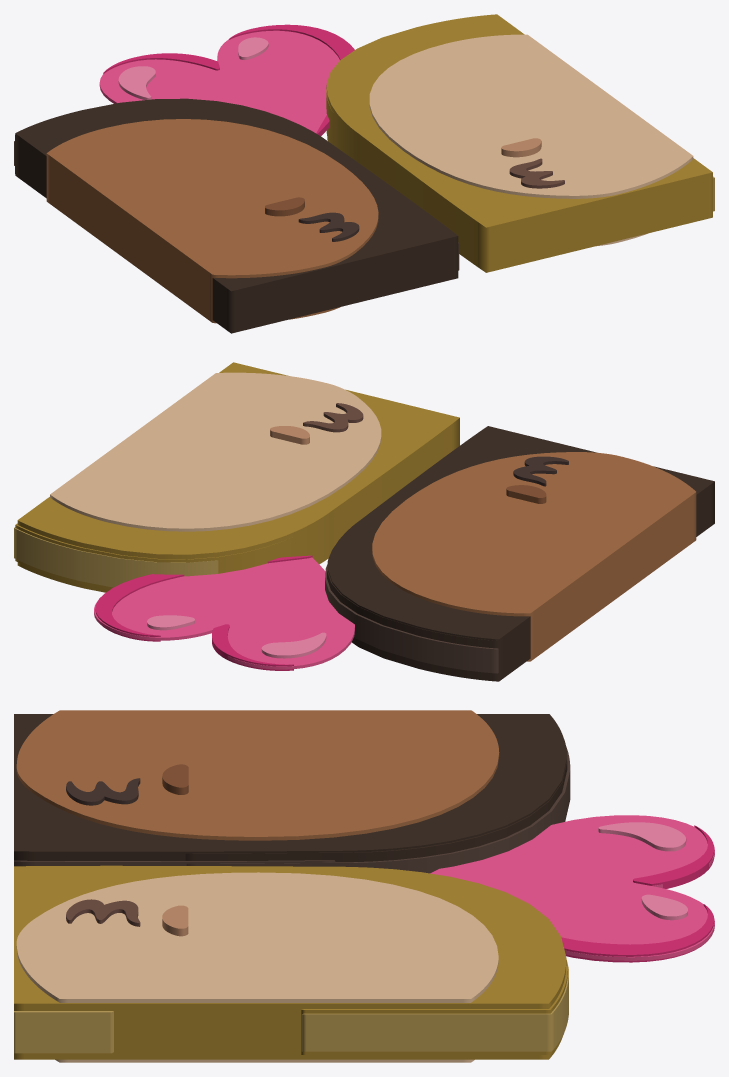
Rendered from emoji_u1f469_1f3fe_200d_2764_200d_1f48b_200d_1f469_1f3fc.glb.
3 views of the same model, one above another, from view 1: azimuth 30°, elevation 25°; view 2: azimuth 150°, elevation 25°; view 3: azimuth 270°, elevation 25° (orthographic). The views are drawn at different scales.
Visible parts, largest first — view 1: emoji_u1f469_1f3fe_200d_2764_200d_1f48b_200d_1f469_1f3fc; view 2: emoji_u1f469_1f3fe_200d_2764_200d_1f48b_200d_1f469_1f3fc; view 3: emoji_u1f469_1f3fe_200d_2764_200d_1f48b_200d_1f469_1f3fc.
Boxes of the visible parts, x1=… form: emoji_u1f469_1f3fe_200d_2764_200d_1f48b_200d_1f469_1f3fc: x1=14, y1=14, x2=714, y2=333; emoji_u1f469_1f3fe_200d_2764_200d_1f48b_200d_1f469_1f3fc: x1=14, y1=362, x2=714, y2=681; emoji_u1f469_1f3fe_200d_2764_200d_1f48b_200d_1f469_1f3fc: x1=14, y1=710, x2=714, y2=1062.
Size of the model in its own units: 0.0336 by 0.0042 by 0.0339.
